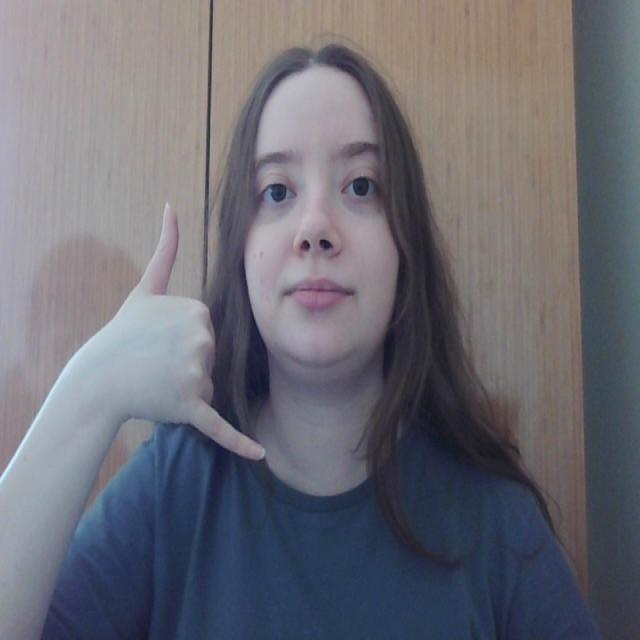Telefon: (130, 184, 270, 472)
